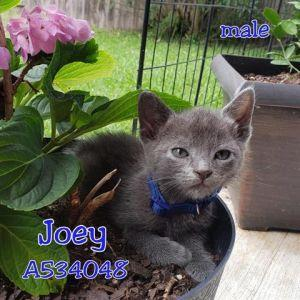rblue: (130, 84, 265, 209)
